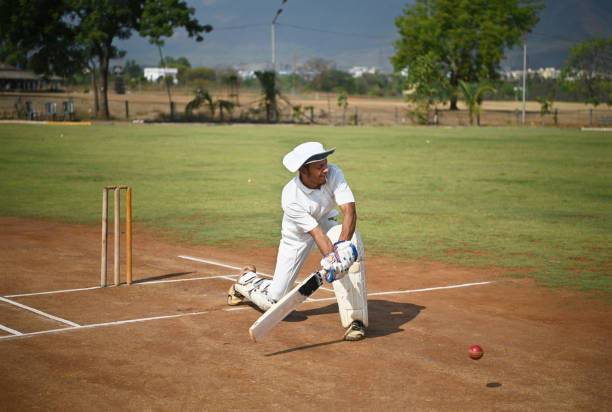bottom left: (245, 325, 255, 335)
bottom right: (252, 334, 265, 347)
top left: (305, 268, 317, 280)
top right: (318, 280, 329, 291)
